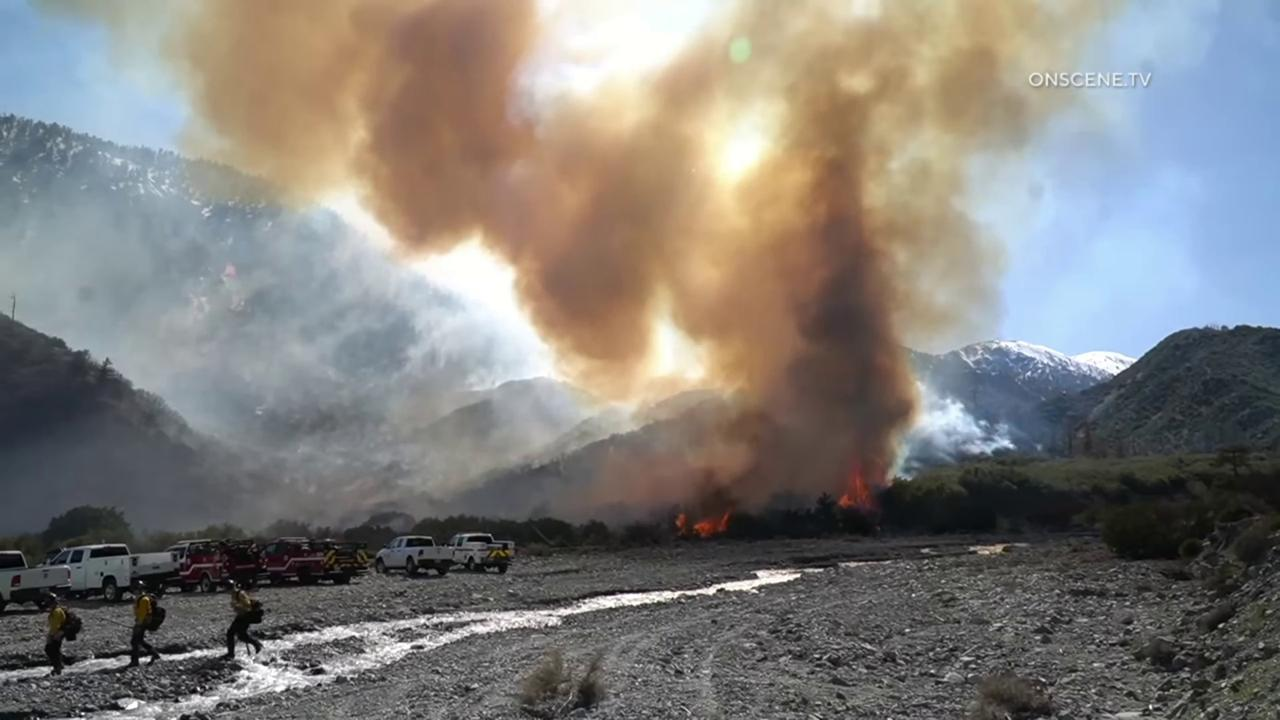fire: (838, 470, 873, 511), (692, 510, 729, 539), (675, 511, 686, 538)
smoke: (0, 0, 1135, 544)
